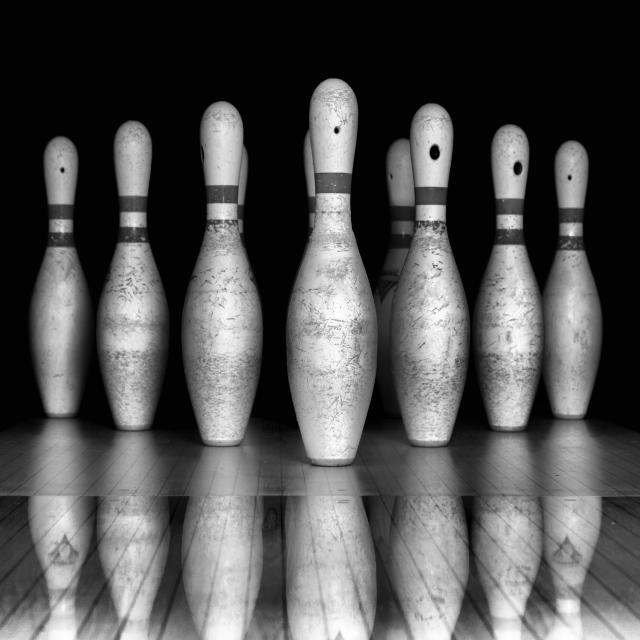bowling-pins: (287, 77, 377, 467), (181, 100, 263, 447), (391, 102, 471, 447), (96, 120, 169, 431), (473, 123, 545, 432), (28, 135, 92, 418), (543, 139, 603, 419), (374, 137, 416, 416), (300, 129, 316, 265), (237, 144, 252, 271)
